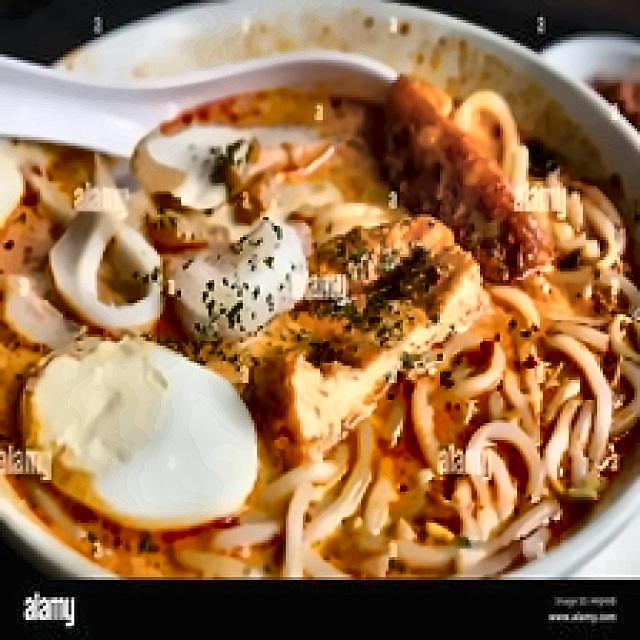egg: (15, 326, 263, 532)
noodle: (18, 165, 634, 580), (342, 274, 619, 568)
